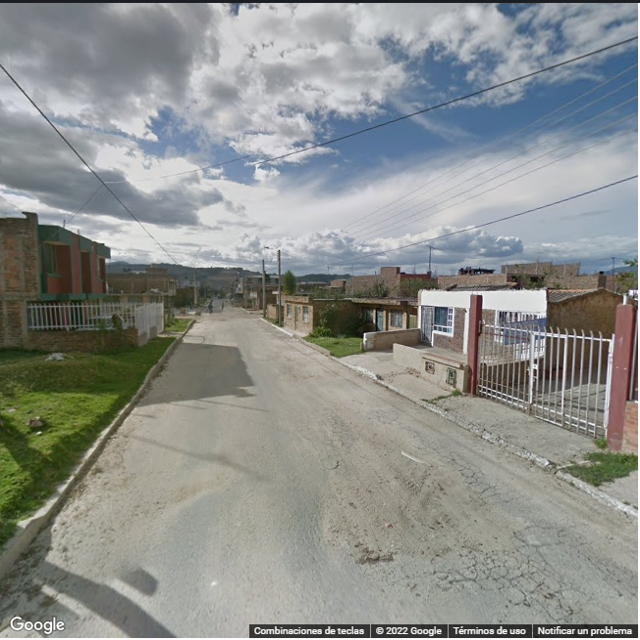D00: (567, 548, 617, 573)
D20: (435, 534, 587, 621)
